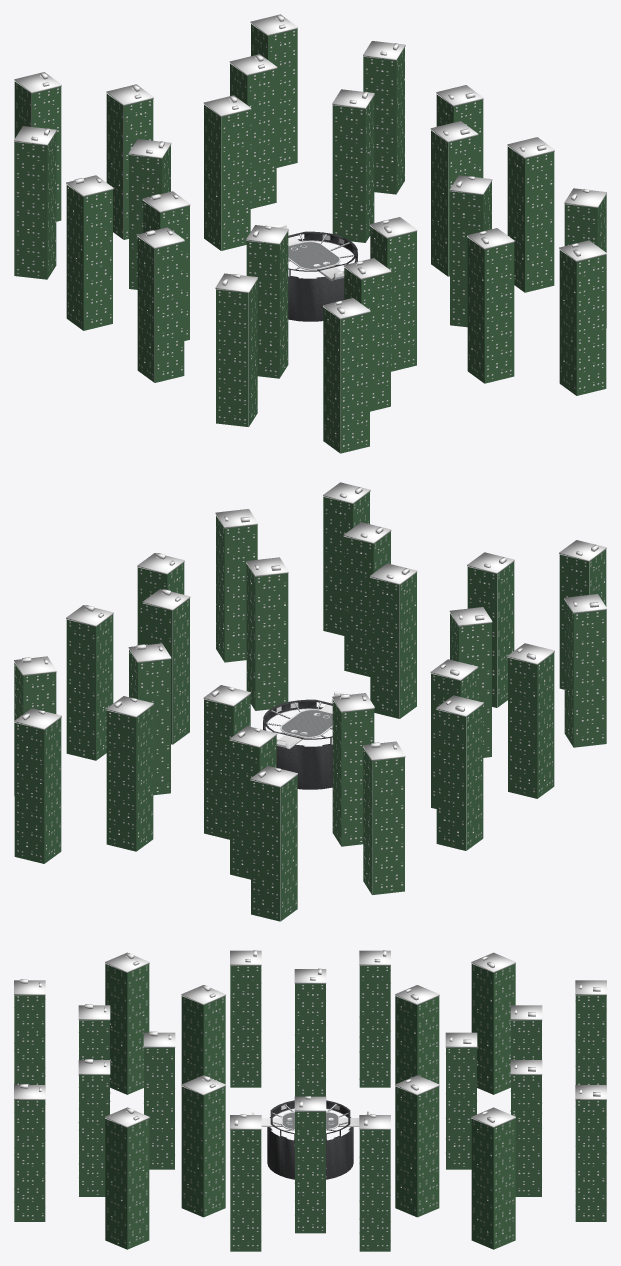
File: hole_drop_track.glb
3 views of the same model, one above another, from view 1: azimuth 30°, elevation 25°; view 2: azimuth 150°, elevation 25°; view 3: azimuth 270°, elevation 25° (orthographic). The views are drawn at different scales.
Visible parts, largest first — view 1: windowLight.png__, stktex_generic_concreteA.png__, stk_genericMetal_a_dark.jpg__, stk_emptyPanel_a.png__, stk_genericMetal_a_light.jpg__, stk_generic_modernWindows_a.png__; view 2: windowLight.png__, stktex_generic_concreteA.png__, stk_genericMetal_a_dark.jpg__, stk_emptyPanel_a.png__, stk_genericMetal_a_light.jpg__, stk_generic_modernWindows_a.png__; view 3: windowLight.png__, stktex_generic_concreteA.png__, stk_genericMetal_a_dark.jpg__, stk_emptyPanel_a.png__.
Part boxes in pixels (left/top/right/bottom): windowLight.png__: left=14, top=24, right=606, bottom=453; stktex_generic_concreteA.png__: left=14, top=14, right=606, bottom=319; stk_genericMetal_a_dark.jpg__: left=288, top=231, right=357, bottom=321; stk_emptyPanel_a.png__: left=27, top=14, right=603, bottom=437; stk_genericMetal_a_light.jpg__: left=288, top=242, right=339, bottom=268; stk_generic_modernWindows_a.png__: left=31, top=94, right=448, bottom=453; windowLight.png__: left=14, top=492, right=606, bottom=921; stktex_generic_concreteA.png__: left=14, top=482, right=606, bottom=787; stk_genericMetal_a_dark.jpg__: left=263, top=699, right=332, bottom=789; stk_emptyPanel_a.png__: left=14, top=487, right=604, bottom=911; stk_genericMetal_a_light.jpg__: left=281, top=710, right=332, bottom=736; stk_generic_modernWindows_a.png__: left=172, top=562, right=589, bottom=921; windowLight.png__: left=14, top=964, right=606, bottom=1251; stktex_generic_concreteA.png__: left=14, top=950, right=606, bottom=1129; stk_genericMetal_a_dark.jpg__: left=267, top=1100, right=353, bottom=1179; stk_emptyPanel_a.png__: left=14, top=950, right=606, bottom=1243.
Bounding box in the file's own units: 973 × 324 × 1373.
Materials: 17 (5 with a texture image).
